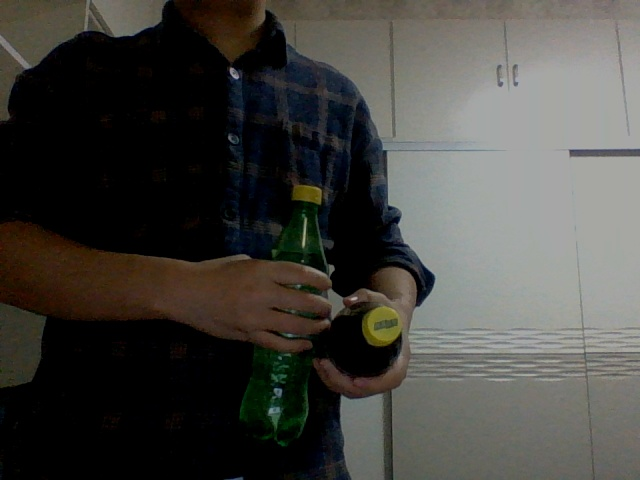Cola: (321, 300, 406, 378)
Sprite: (238, 184, 325, 449)
